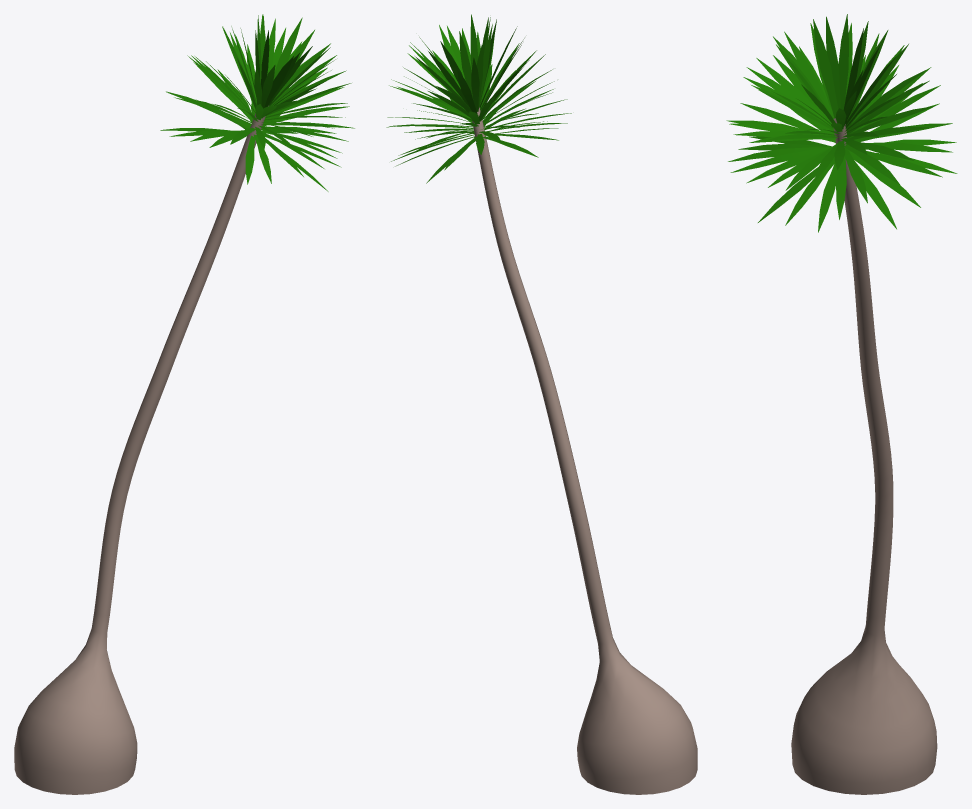
File: tree4.FBX
The picture shows the model from 3 angles, left to right: view 1: azimuth 30°, elevation 25°; view 2: azimuth 150°, elevation 25°; view 3: azimuth 270°, elevation 25°; orthographic projection. The views are drawn at different scales.
Parts seen in each view (by area): view 1: Foliage003; view 2: Foliage003; view 3: Foliage003.
Boxes of the visible parts, <box> form: Foliage003: <box>14,14,354,794</box>; Foliage003: <box>386,14,697,794</box>; Foliage003: <box>726,14,957,794</box>.
Size of the model in its own units: 42.39 by 92.91 by 23.05.
